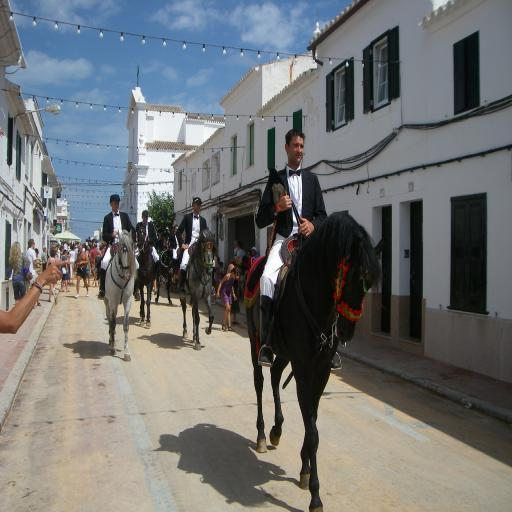horse: (246, 208, 390, 512), (176, 226, 218, 350), (101, 228, 138, 364), (134, 231, 158, 328), (155, 248, 186, 306)
